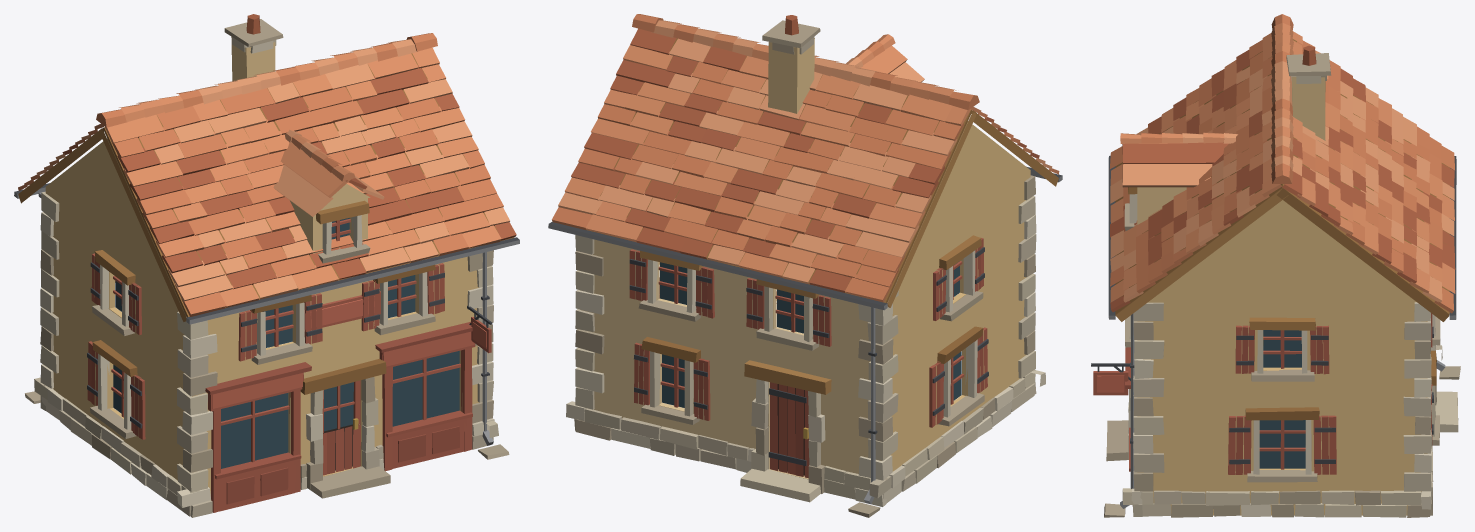
Rendered from cafe.glb.
The picture shows the model from 3 angles, left to right: view 1: azimuth 30°, elevation 25°; view 2: azimuth 150°, elevation 25°; view 3: azimuth 270°, elevation 25°; orthographic projection. The views are drawn at different scales.
Visible parts, largest first — view 1: cafe; view 2: cafe; view 3: cafe.
Boxes of the visible parts, x1,y1,x2,y2 form: cafe: (14, 14, 519, 517); cafe: (548, 14, 1062, 517); cafe: (1091, 14, 1460, 517).
Bounding box in the file's own units: 7.84 × 9.03 × 7.64.
